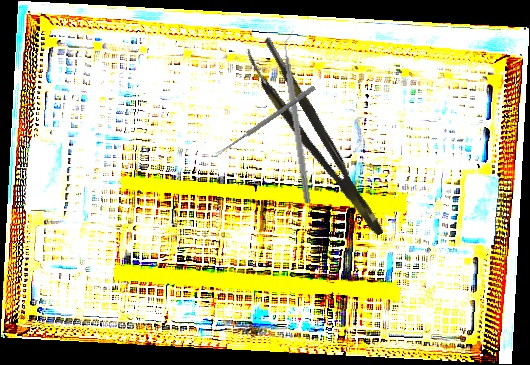Chopper: (279, 29, 321, 205)
Surgical Spoon: (215, 84, 316, 158)
Tissue Forceps: (241, 35, 388, 248)
